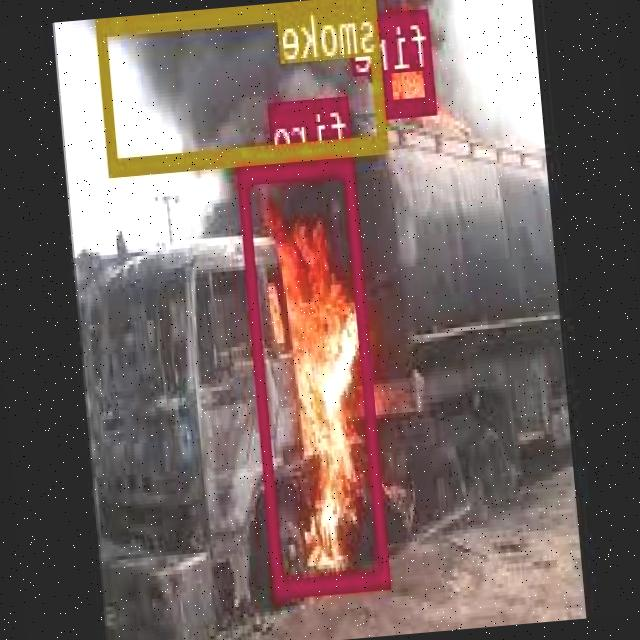fire: (238, 153, 392, 592), (378, 5, 437, 114)
smoke: (97, 0, 389, 170)
